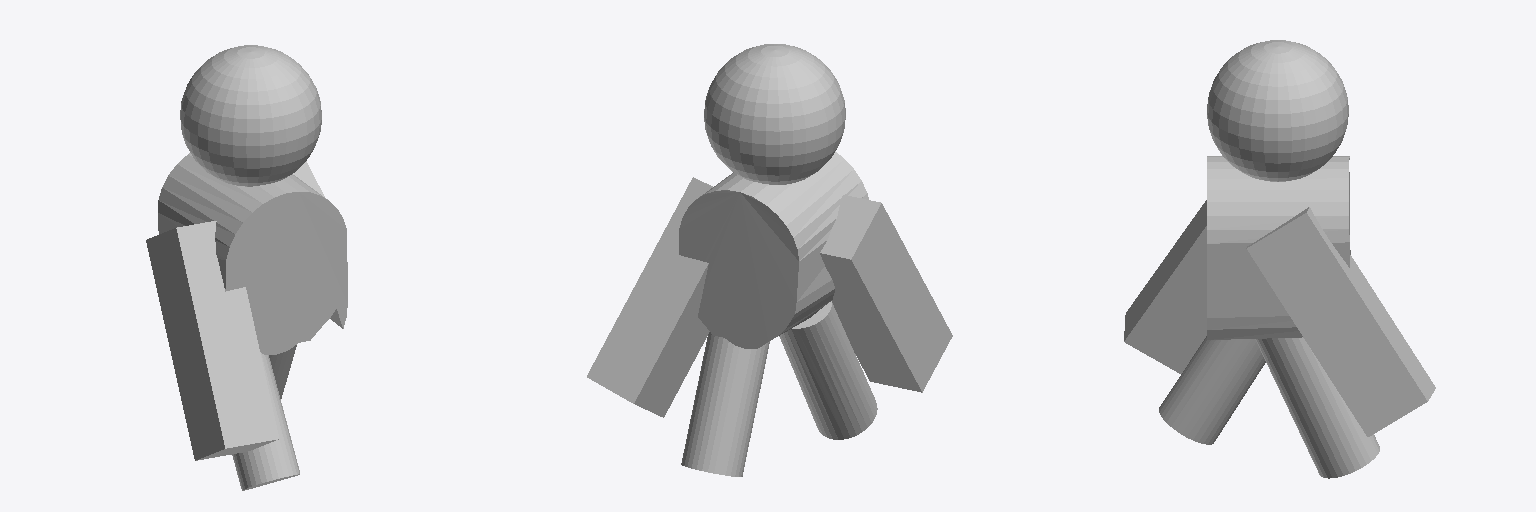
The model's file is Figurine108.obj.
The picture shows the model from 3 angles: view 1: azimuth 30°, elevation 25°; view 2: azimuth 150°, elevation 25°; view 3: azimuth 270°, elevation 25°; orthographic projection.
Visible parts, largest first — view 1: Cylinder; view 2: Cylinder; view 3: Cylinder.
Boxes of the visible parts, box(x1,y1,x2,y2) form: Cylinder: box(146, 45, 347, 490); Cylinder: box(587, 44, 952, 476); Cylinder: box(1124, 40, 1435, 478).
Bounding box in the file's own units: 3.49 × 6.4 × 4.39.